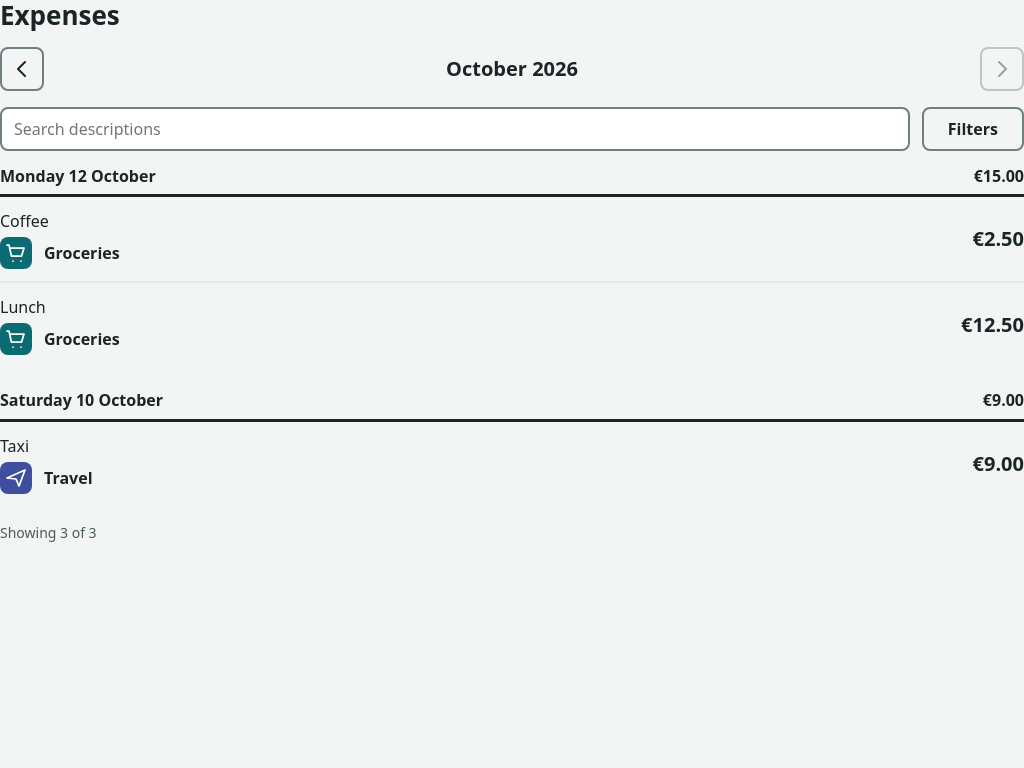
Test: ExpensesView › applies a custom past range and rejects an invalid one
Click the button "Filters".
click(973, 129)  # box [922, 107, 1023, 151]
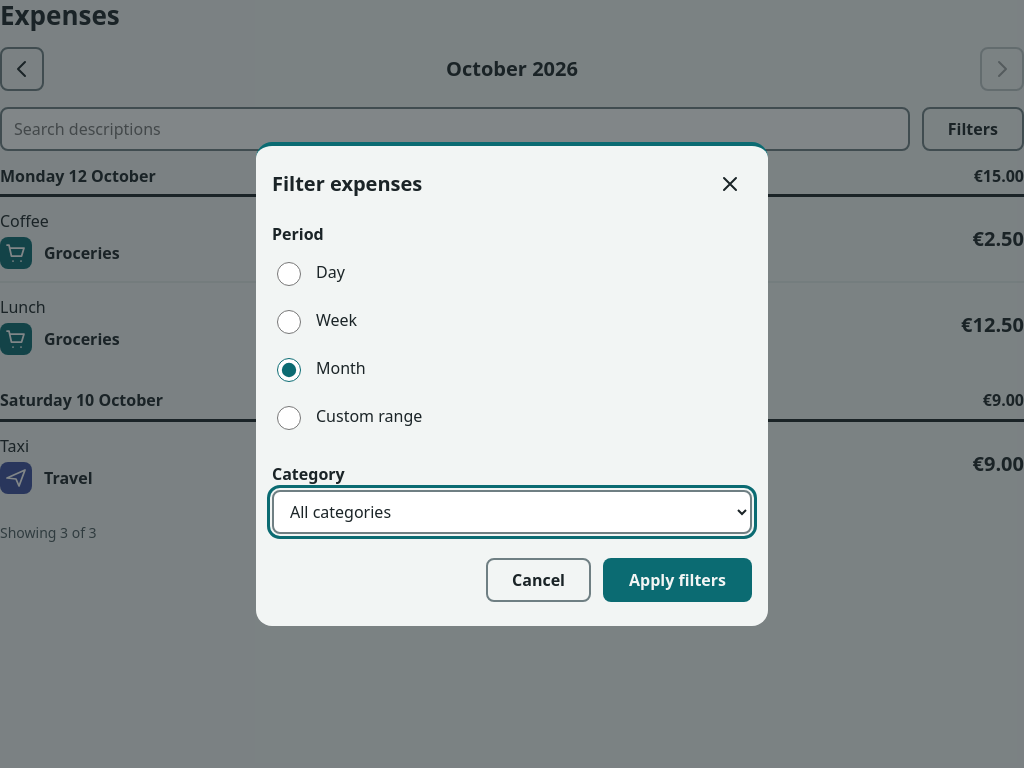
Click the radio button labelled "Custom range".
click(289, 418)  # box [277, 406, 301, 430]
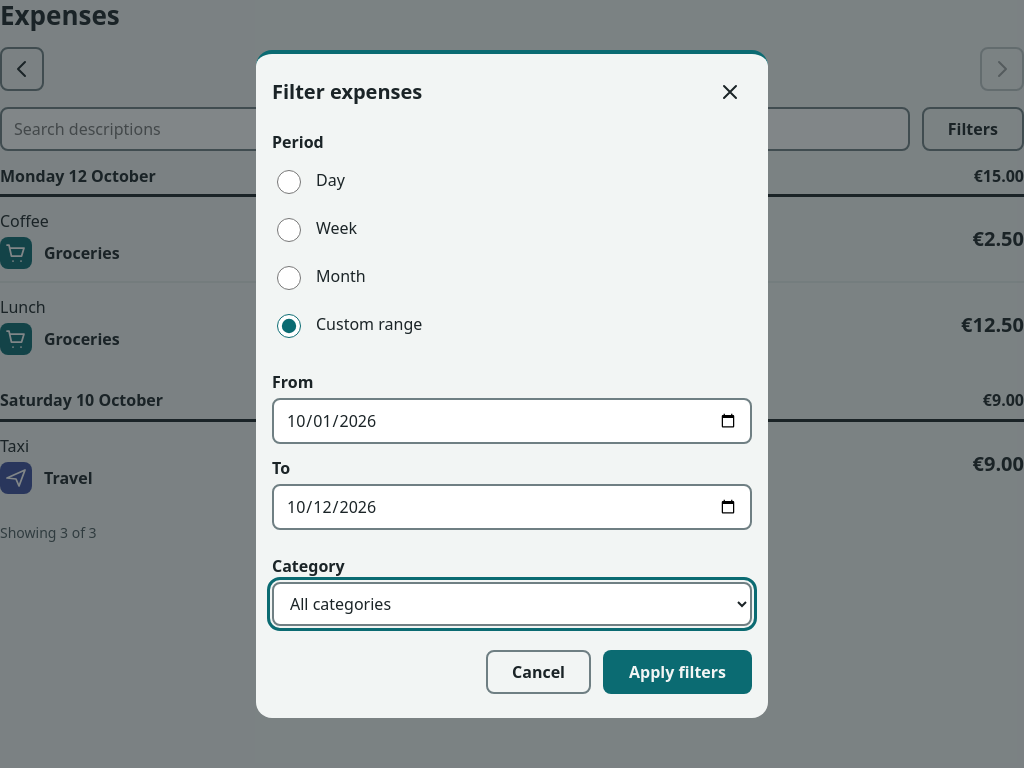
Type "2026-09-10" into the date field labelled "From".
click(512, 421); type("2026-09-10")  # box [272, 398, 752, 444]
Type "2026-09-01" into the date field labelled "To".
click(512, 507); type("2026-09-01")  # box [272, 484, 752, 530]
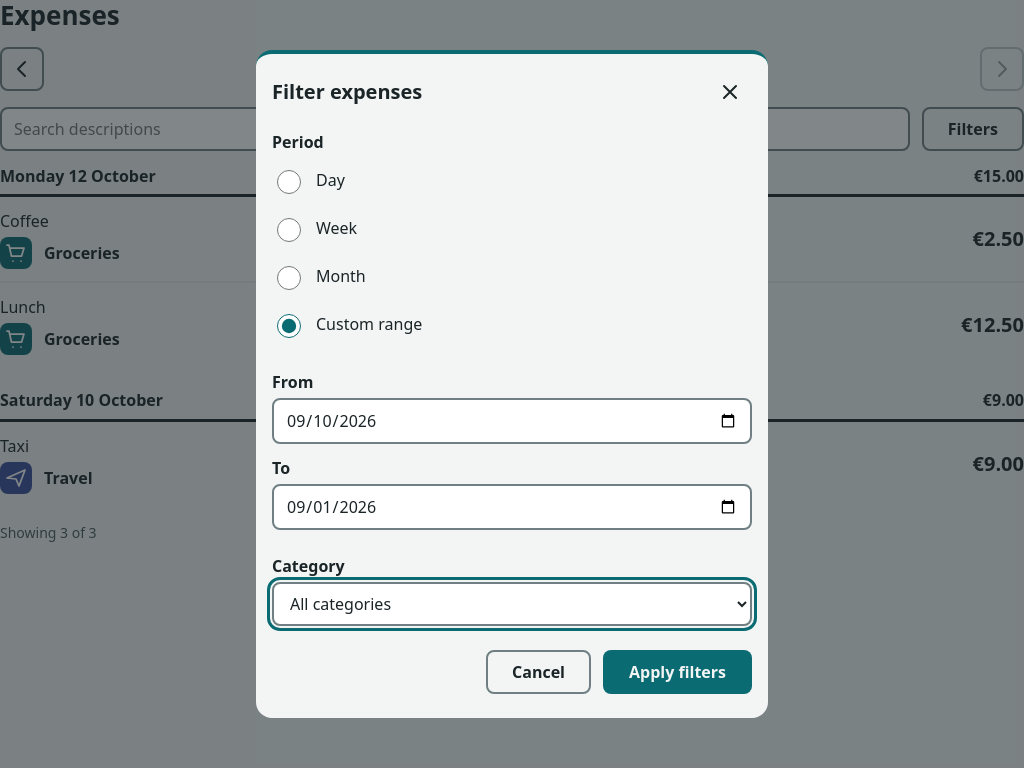
Submit the form, box [272, 130, 752, 694]
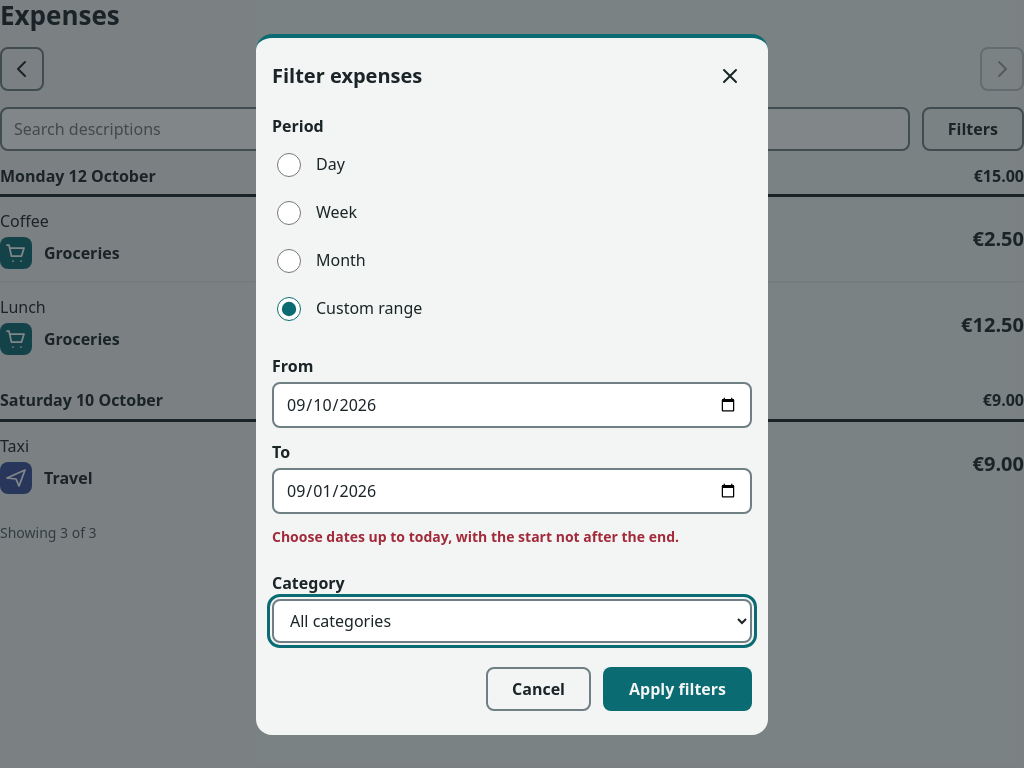
Expected: the text "Choose dates up to today, with the start not after the end." is shown, [272, 526, 679, 546]
Type "2026-09-20" into the date field labelled "To".
click(512, 490); type("2026-09-20")  # box [272, 468, 752, 514]
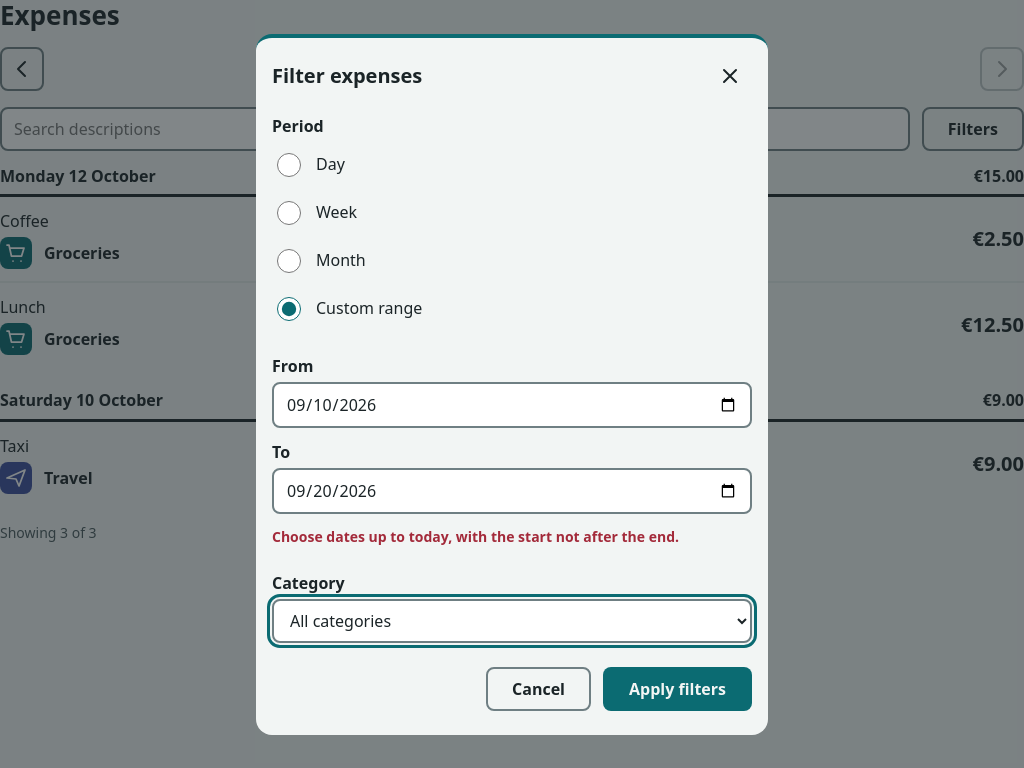
Submit the form, box [272, 114, 752, 710]
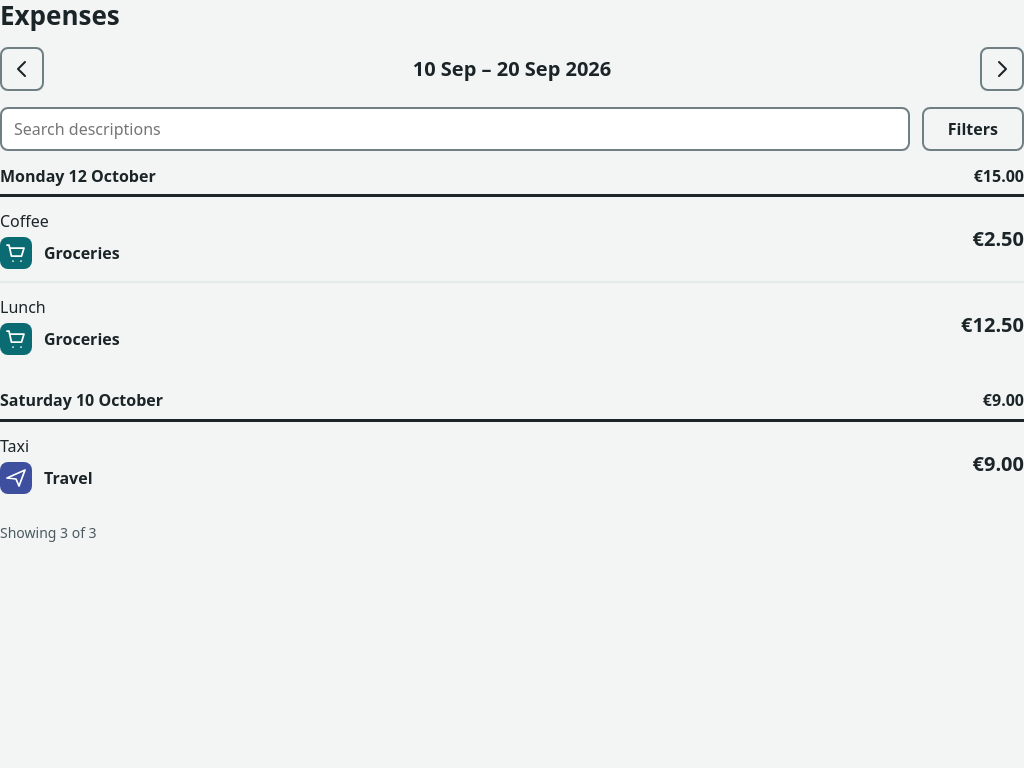
Expected: the text "10 Sep – 20 Sep 2026" is shown, [413, 55, 611, 82]
